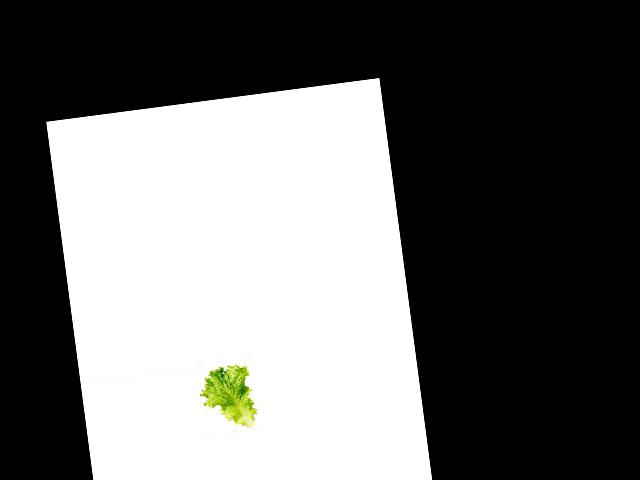lettuce: (197, 362, 256, 434)
